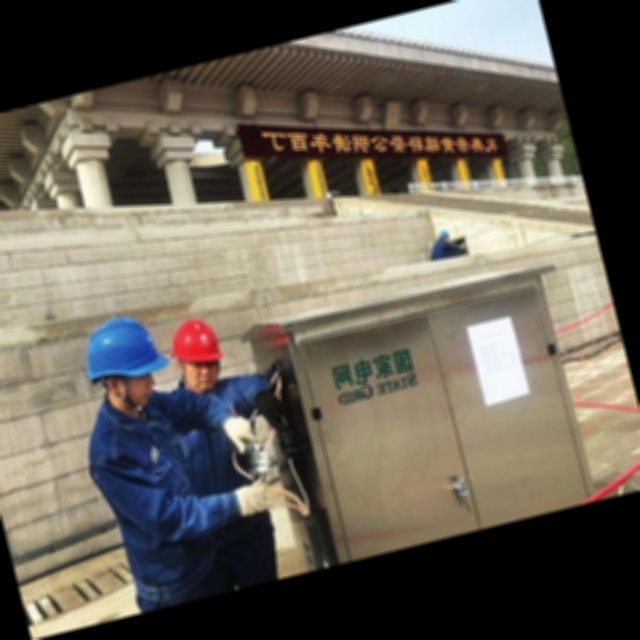Con_Casco: (84, 313, 171, 413), (166, 316, 229, 395)
